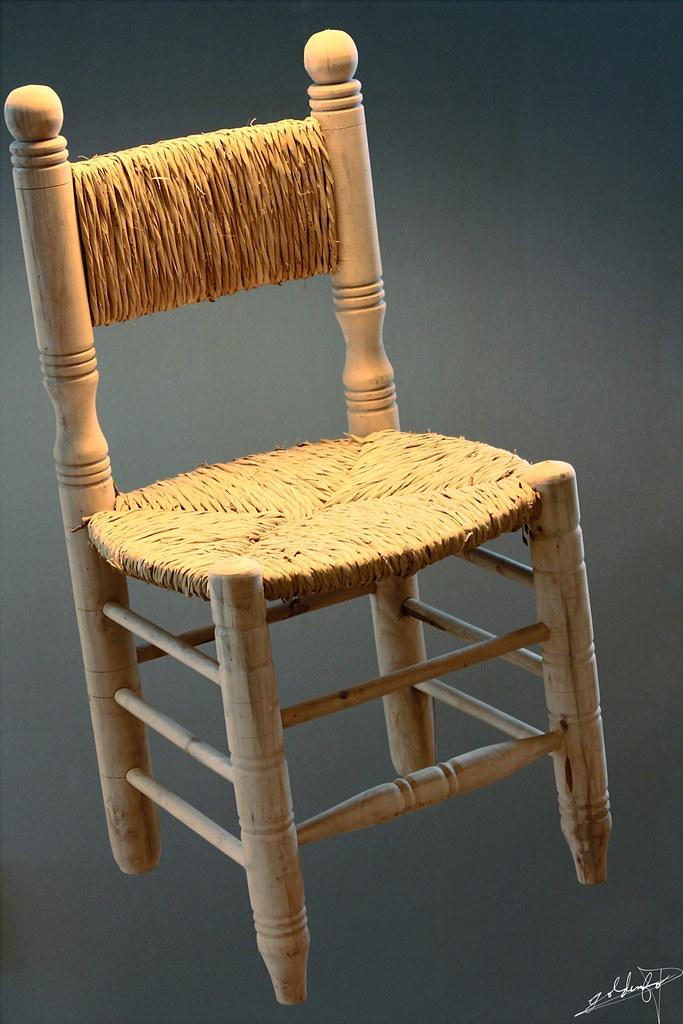chair: (4, 29, 613, 1007)
